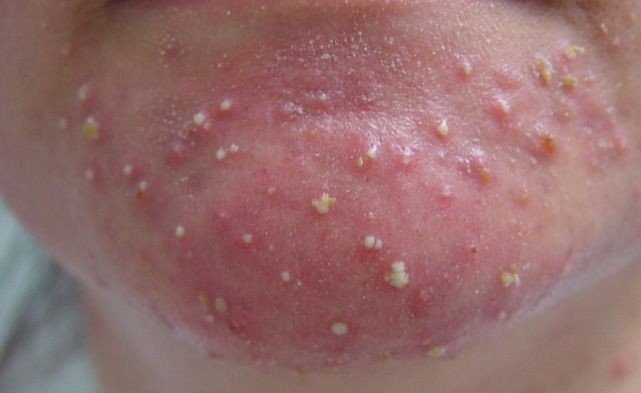jerawat: (32, 33, 636, 364)
